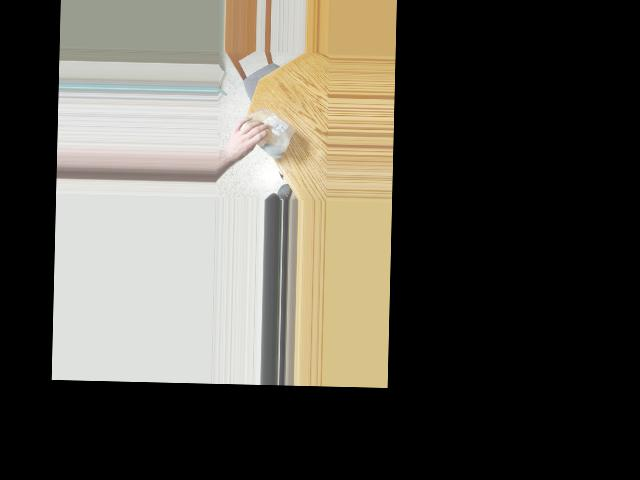cheese: (237, 105, 297, 152)
